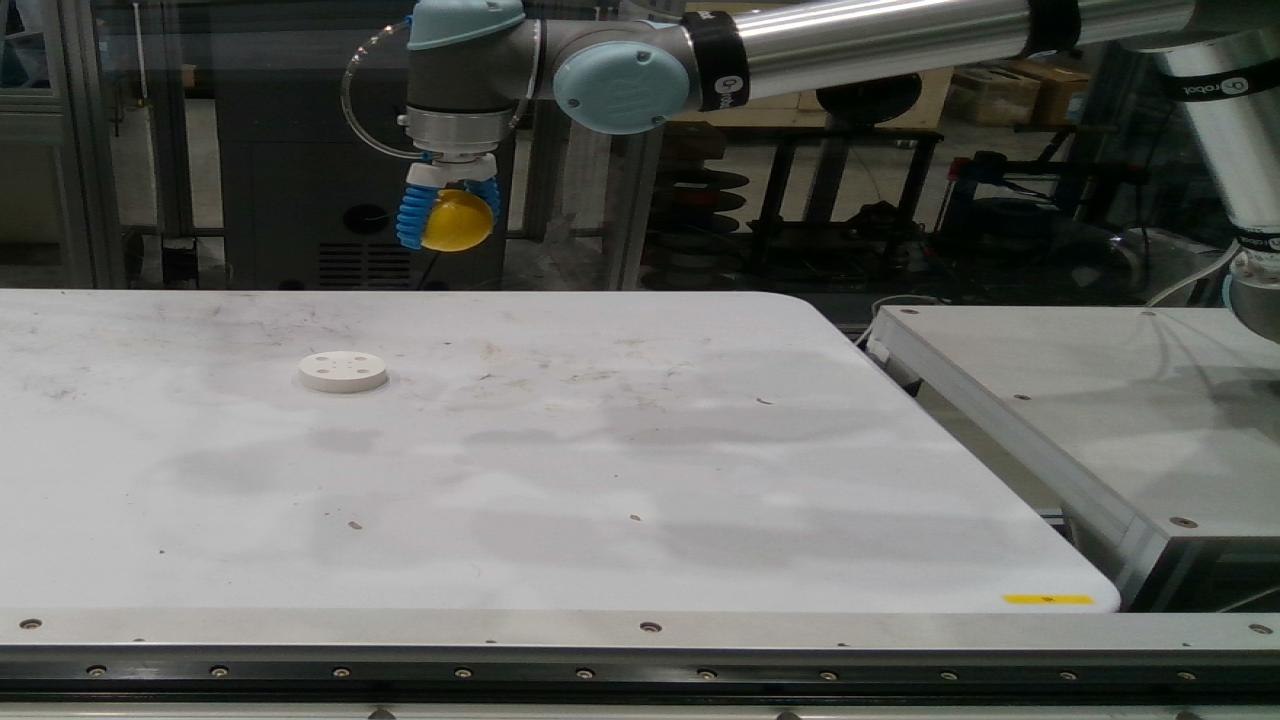UR5: (400, 0, 1279, 341)
gripper_left: (464, 175, 501, 228)
gripper_right: (397, 184, 438, 250)
target: (406, 189, 496, 252), (299, 350, 387, 393)
